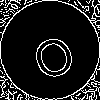O: (25, 25, 80, 83)
